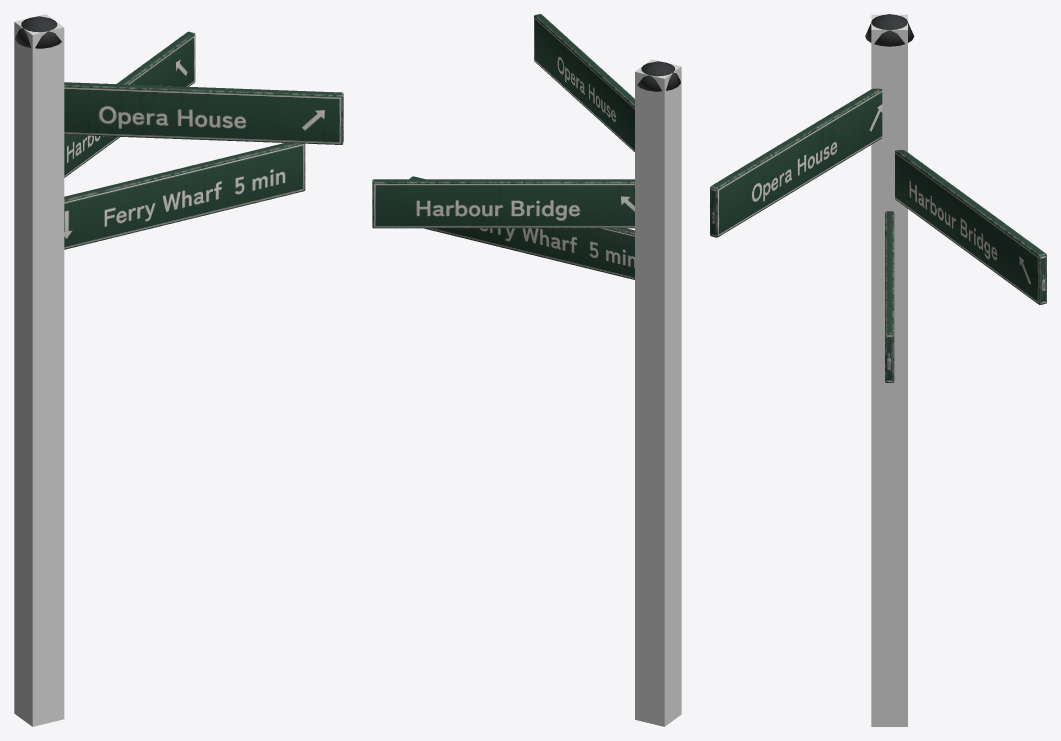
The model's file is p4_sign.glb.
3 renders of one model, left to right at view 1: azimuth 30°, elevation 25°; view 2: azimuth 150°, elevation 25°; view 3: azimuth 270°, elevation 25°, orthographic. The views are drawn at different scales.
Parts seen in each view (by area): view 1: p4_sign_COL, p4_sign_LOD0; view 2: p4_sign_COL, p4_sign_LOD0; view 3: p4_sign_COL, p4_sign_LOD0.
Part boxes in pixels (x1,y1,x2,y2): p4_sign_COL: [14, 14, 64, 726]; p4_sign_LOD0: [15, 16, 343, 249]; p4_sign_COL: [635, 59, 681, 726]; p4_sign_LOD0: [372, 14, 680, 279]; p4_sign_COL: [871, 14, 907, 726]; p4_sign_LOD0: [710, 14, 1046, 382].
Size of what is drawn, in the model's own units: 1.08 by 2.53 by 1.1.
1 material, 1 textured.
